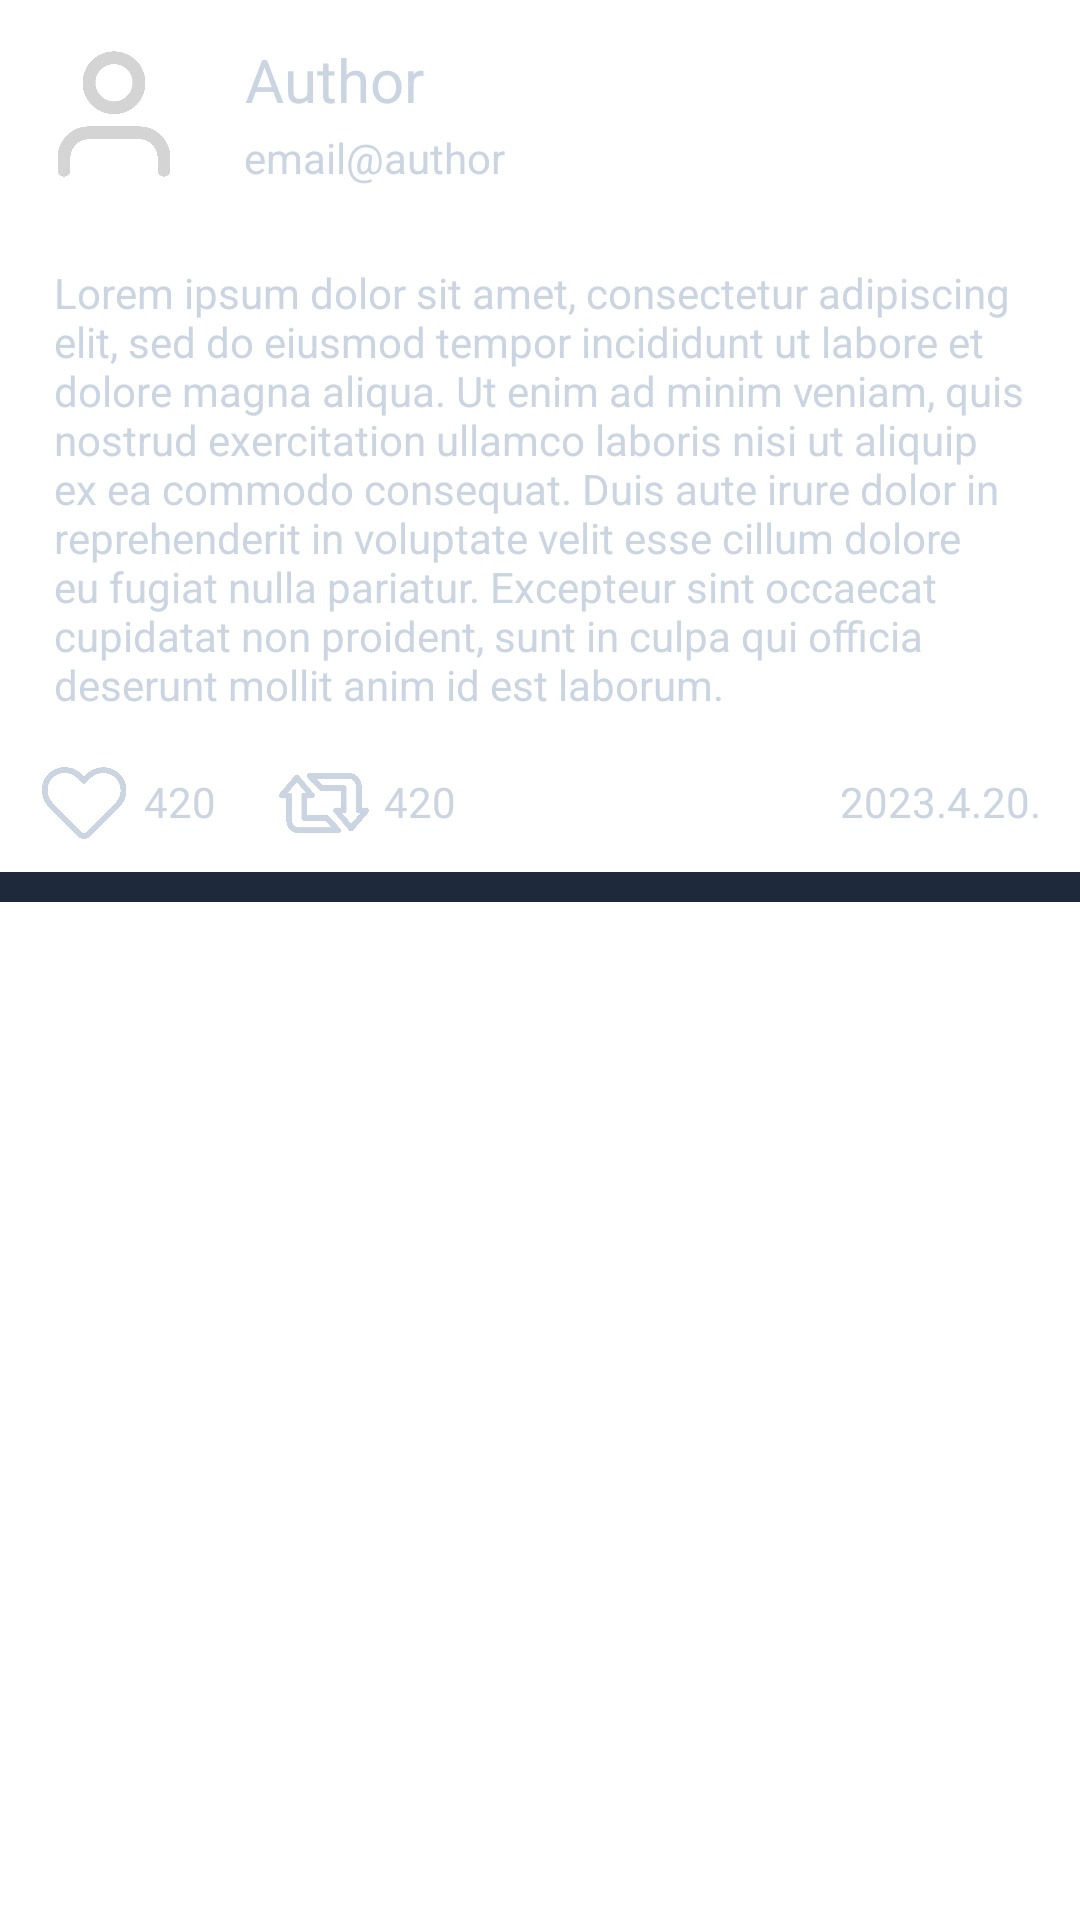

Screen size 1080 x 1920. Icon name, then its center in pixels as point (x, y):
like: point (84, 803)
retweet: point (324, 803)
user: point (114, 114)
